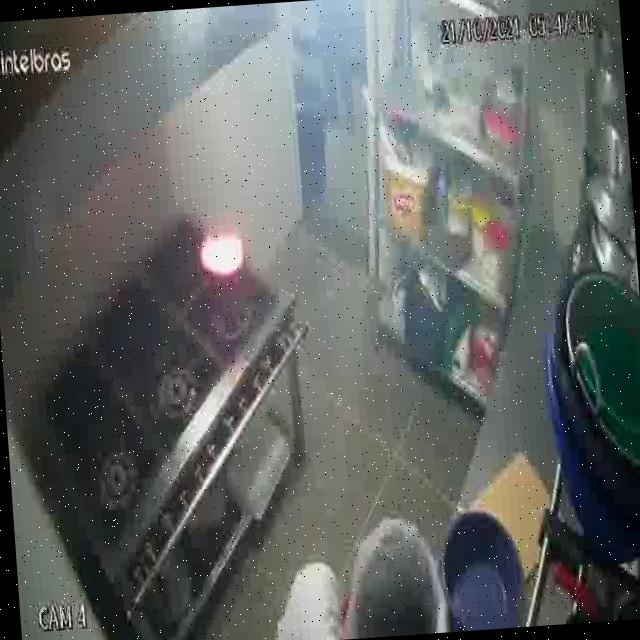fire: (192, 212, 262, 292)
